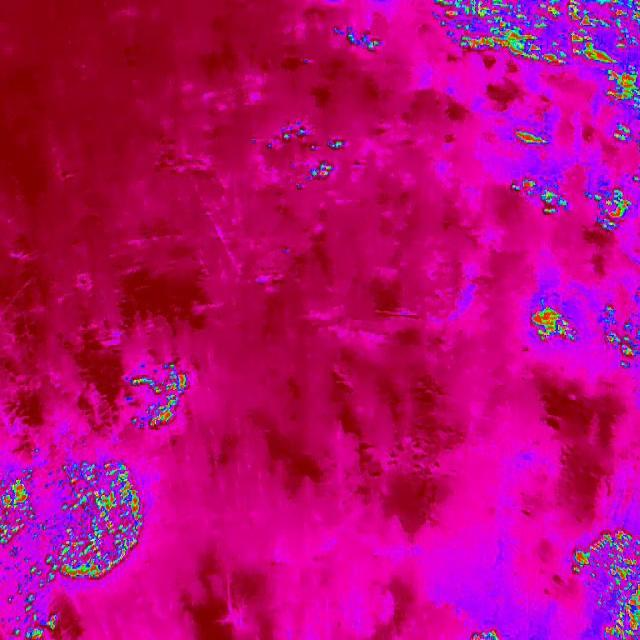fire: (0, 462, 149, 576), (432, 0, 640, 59), (524, 294, 640, 377), (569, 526, 640, 640), (276, 122, 350, 189), (126, 362, 194, 429), (0, 576, 65, 640), (510, 172, 578, 223), (600, 58, 640, 144), (323, 21, 393, 70), (586, 187, 638, 239), (501, 121, 552, 153), (468, 621, 504, 640)
